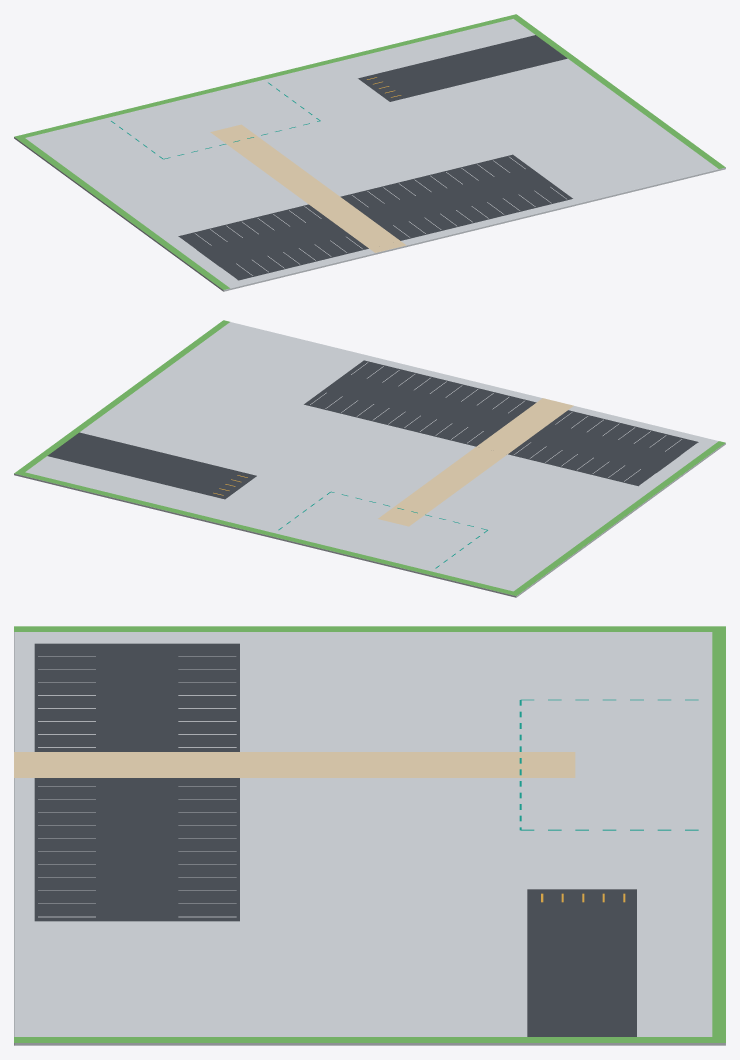
File: CM_Plot_Pad_CornerStore.fbx
3 renders of one model, top to bottom at view 1: azimuth 30°, elevation 25°; view 2: azimuth 150°, elevation 25°; view 3: azimuth 270°, elevation 25°, orthographic. The views are drawn at different scales.
Visible parts, largest first — view 1: Pad; view 2: Pad; view 3: Pad.
Boxes of the visible parts, left/top/right/bottom form: Pad: left=14, top=14, right=725, bottom=291; Pad: left=14, top=320, right=725, bottom=597; Pad: left=14, top=626, right=725, bottom=1045.
Bounding box in the file's own units: 288 × 208 × 1.01.
1 material, 1 textured.
